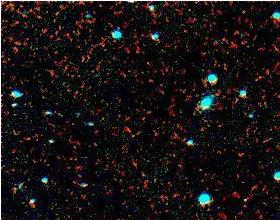star: (202, 81, 232, 111)
